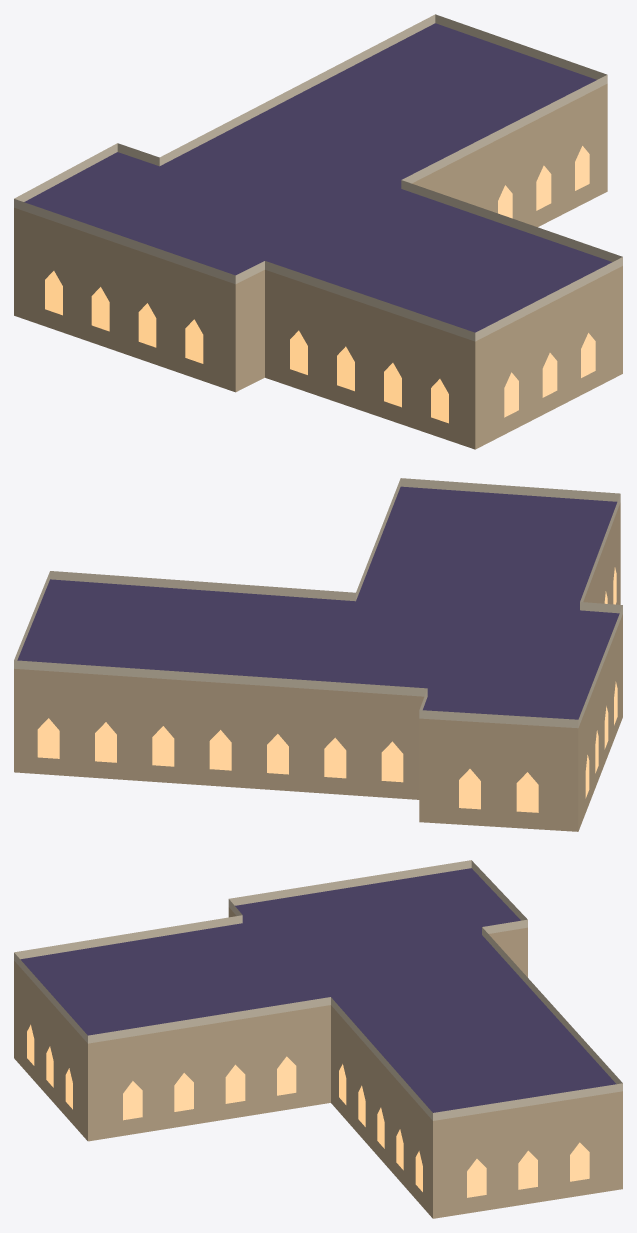
Rendered from b-038-brescia-university-college.glb.
The picture shows the model from 3 angles, top to bottom: view 1: azimuth 30°, elevation 25°; view 2: azimuth 150°, elevation 25°; view 3: azimuth 270°, elevation 25°; orthographic projection. The views are drawn at different scales.
Visible parts, largest first — view 1: campus/b-038-brescia-university-college-0; view 2: campus/b-038-brescia-university-college-0; view 3: campus/b-038-brescia-university-college-0.
Boxes of the visible parts, bbox=[...] form: campus/b-038-brescia-university-college-0: bbox=[14, 14, 622, 449]; campus/b-038-brescia-university-college-0: bbox=[14, 478, 622, 831]; campus/b-038-brescia-university-college-0: bbox=[14, 860, 622, 1218].
Bounding box in the file's own units: 37.12 × 7.25 × 37.78.
